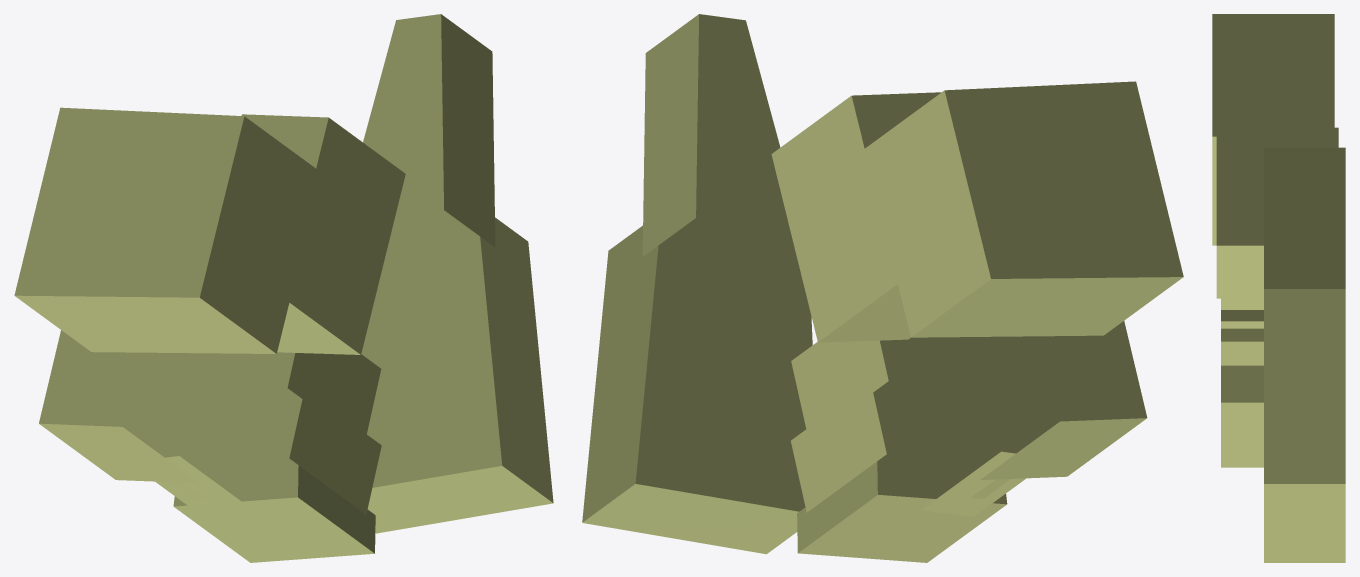
3 renders of one model, left to right at view 1: azimuth 30°, elevation 25°; view 2: azimuth 150°, elevation 25°; view 3: azimuth 270°, elevation 25°, orthographic. The views are drawn at different scales.
Parts seen in each view (by area): view 1: 0_1_1_3_3_0_2_1_1; view 2: 0_1_1_3_3_0_2_1_1; view 3: 0_1_1_3_3_0_2_1_1.
Boxes of the visible parts, x1,y1,x2,y2 form: 0_1_1_3_3_0_2_1_1: (14,14,553,562); 0_1_1_3_3_0_2_1_1: (582,14,1183,562); 0_1_1_3_3_0_2_1_1: (1212,14,1345,562).
Bounding box in the file's own units: 33.37 × 30.47 × 9.8.
